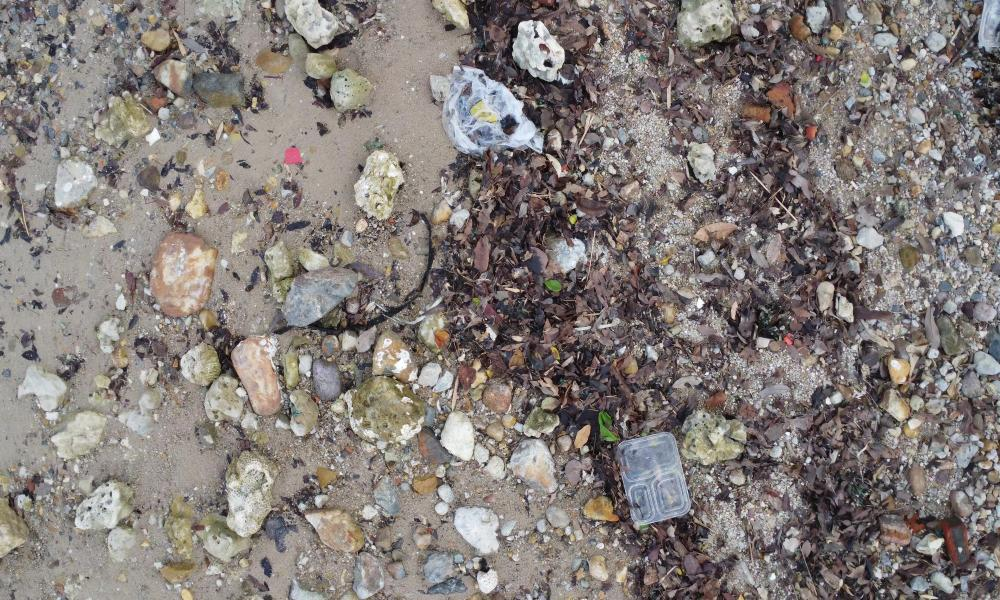plastic bag: (446, 74, 546, 158)
plastic container: (618, 432, 691, 528)
